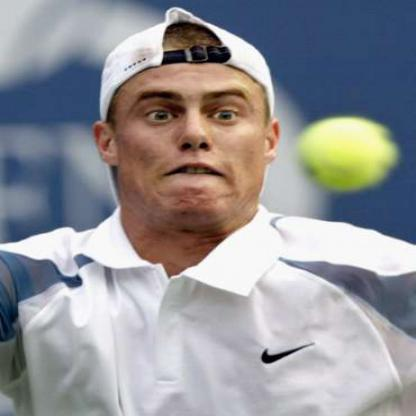face: (112, 21, 271, 227)
